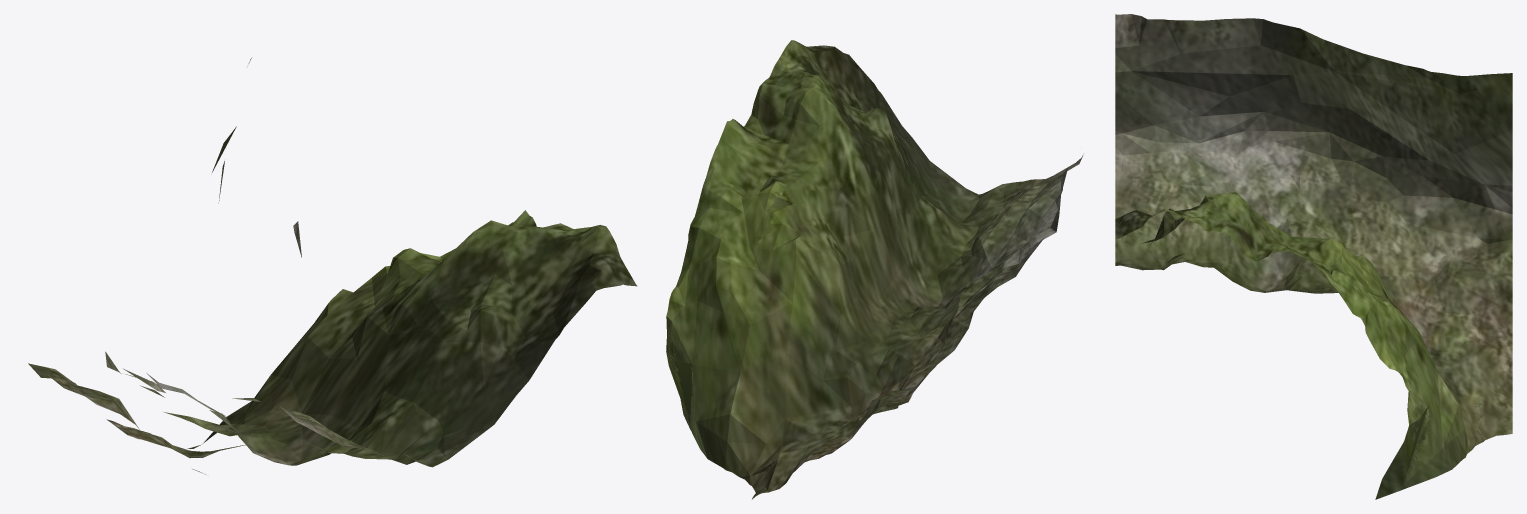
3 views of the same model, side by side, from view 1: azimuth 30°, elevation 25°; view 2: azimuth 150°, elevation 25°; view 3: azimuth 270°, elevation 25° (orthographic). The views are drawn at different scales.
Size of the model in its own units: 2.64 by 2.95 by 2.95.
Materials: 4 (4 with a texture image).
